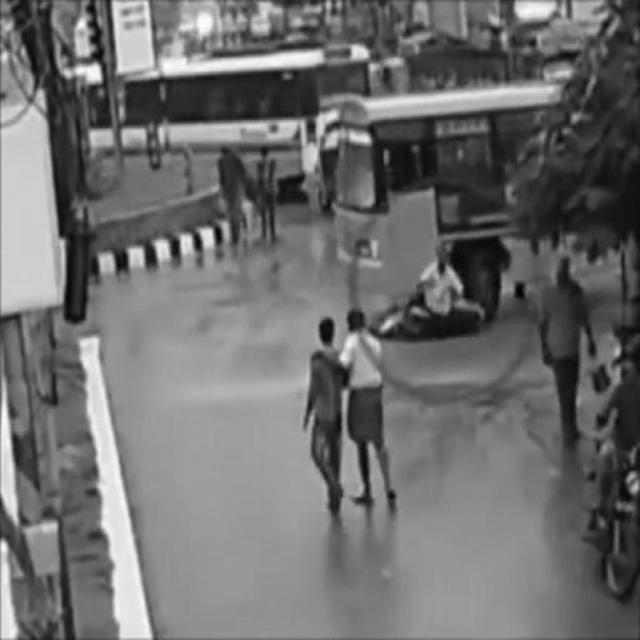accident: (343, 96, 640, 336)
person: (337, 304, 404, 508), (315, 309, 350, 511)
vehicle: (138, 57, 376, 185)
